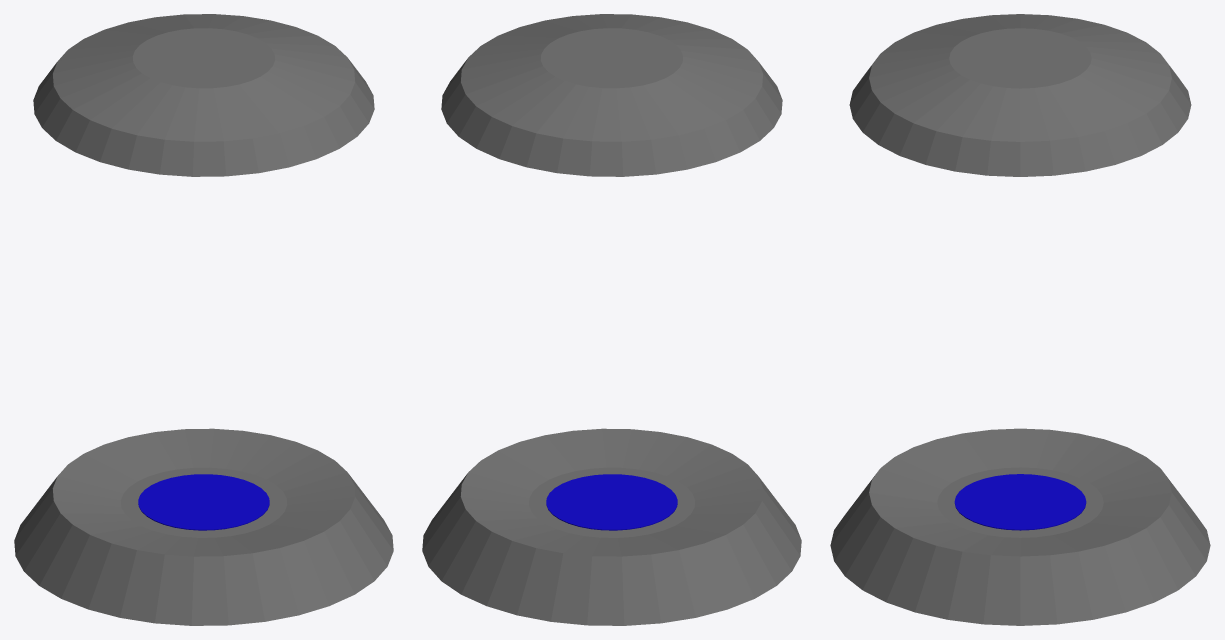
The model's file is Spawn Object.obj.
3 views of the same model, side by side, from view 1: azimuth 30°, elevation 25°; view 2: azimuth 150°, elevation 25°; view 3: azimuth 270°, elevation 25° (orthographic).
Visible parts, largest first — view 1: Cylinder, Cylinder.001, Cylinder.003; view 2: Cylinder, Cylinder.001, Cylinder.003; view 3: Cylinder, Cylinder.001, Cylinder.003.
Part boxes in pixels (x1,y1,x2,y2): Cylinder: (14, 428, 393, 625); Cylinder.001: (33, 14, 374, 176); Cylinder.003: (138, 474, 269, 530); Cylinder: (422, 428, 801, 625); Cylinder.001: (441, 14, 782, 176); Cylinder.003: (546, 474, 677, 530); Cylinder: (830, 428, 1210, 625); Cylinder.001: (849, 14, 1191, 176); Cylinder.003: (954, 474, 1086, 530).
Size of the model in its own units: 2.51 by 3.55 by 2.51.
